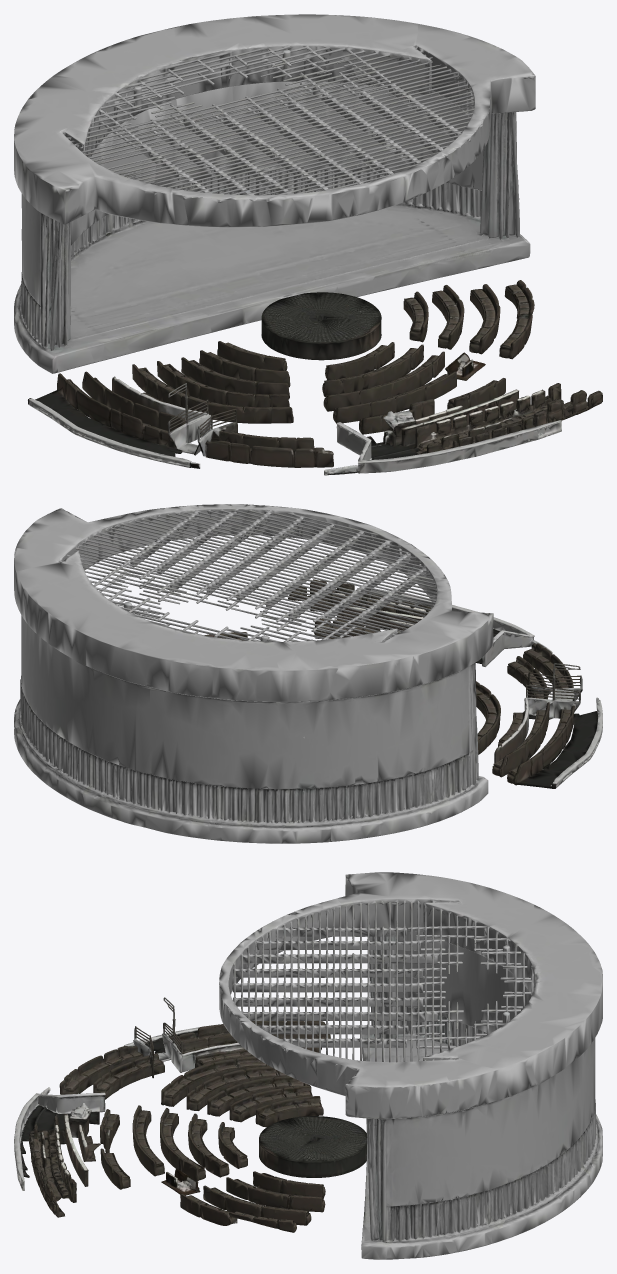
The model's file is stage-and-seating.glb.
The picture shows the model from 3 angles, top to bottom: view 1: azimuth 30°, elevation 25°; view 2: azimuth 150°, elevation 25°; view 3: azimuth 270°, elevation 25°; orthographic projection. The views are drawn at different scales.
Visible parts, largest first — view 1: tripo_node_974f1ce5-d881-4d32-b245-d4cbb04b908b, tripo_node_933d99cd-c67e-4555-9827-57b7417d858b; view 2: tripo_node_974f1ce5-d881-4d32-b245-d4cbb04b908b, tripo_node_933d99cd-c67e-4555-9827-57b7417d858b; view 3: tripo_node_974f1ce5-d881-4d32-b245-d4cbb04b908b, tripo_node_933d99cd-c67e-4555-9827-57b7417d858b.
Part boxes in pixels (x1=…): tripo_node_974f1ce5-d881-4d32-b245-d4cbb04b908b: x1=14, y1=14, x2=535, y2=373; tripo_node_933d99cd-c67e-4555-9827-57b7417d858b: x1=28, y1=280, x2=602, y2=475; tripo_node_974f1ce5-d881-4d32-b245-d4cbb04b908b: x1=14, y1=504, x2=493, y2=843; tripo_node_933d99cd-c67e-4555-9827-57b7417d858b: x1=205, y1=579, x2=602, y2=788; tripo_node_974f1ce5-d881-4d32-b245-d4cbb04b908b: x1=219, y1=872, x2=602, y2=1259; tripo_node_933d99cd-c67e-4555-9827-57b7417d858b: x1=14, y1=997, x2=367, y2=1232.
Size of the model in its own units: 1.07 by 0.3704 by 1.13.
Materials: 2 (2 with a texture image).
